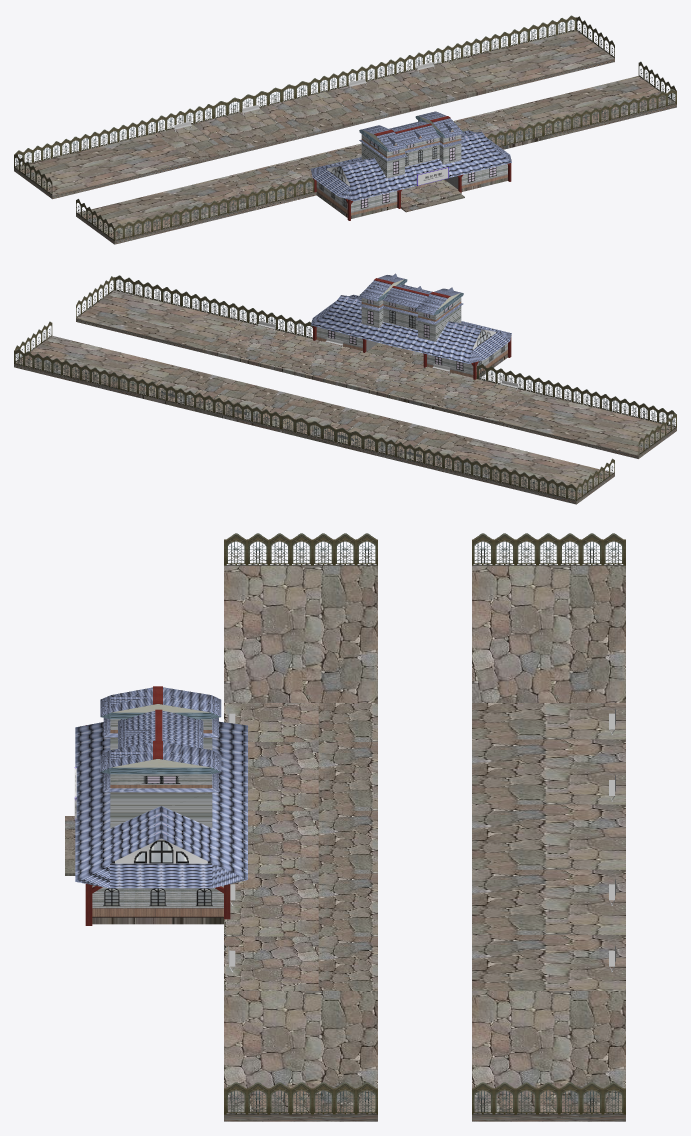
The model's file is KazaminoStation.fbx.
3 renders of one model, top to bottom at view 1: azimuth 30°, elevation 25°; view 2: azimuth 150°, elevation 25°; view 3: azimuth 270°, elevation 25°, orthographic. The views are drawn at different scales.
Visible parts, largest first — view 1: kazamino_station, kazamino_station_Home; view 2: kazamino_station, kazamino_station_Home; view 3: kazamino_station, kazamino_station_Home.
Boxes of the visible parts, x1=… form: kazamino_station: x1=76, y1=61, x2=676, y2=244; kazamino_station_Home: x1=14, y1=15, x2=614, y2=199; kazamino_station: x1=76, y1=273, x2=676, y2=458; kazamino_station_Home: x1=14, y1=321, x2=614, y2=504; kazamino_station: x1=65, y1=533, x2=377, y2=1121; kazamino_station_Home: x1=472, y1=533, x2=625, y2=1121.
Size of the model in its own units: 600 by 63.59 by 259.
